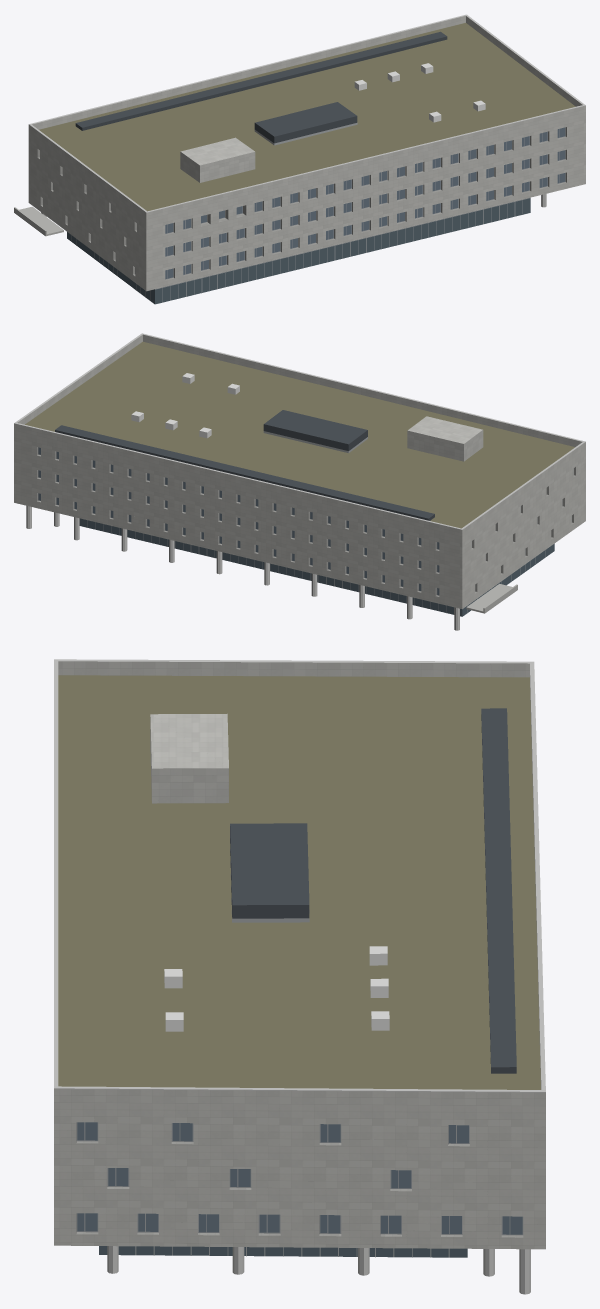
3 views of the same model, one above another, from view 1: azimuth 30°, elevation 25°; view 2: azimuth 150°, elevation 25°; view 3: azimuth 270°, elevation 25° (orthographic). The views are drawn at different scales.
Visible parts, largest first — view 1: veritasB__wall, veritasB__green, veritasB__glassG, veritasB__glassDark, veritasB__glass, veritasB__frame, veritasB__reveal, veritasB__cap, veritasB__concrete, veritasB__unit; view 2: veritasB__wall, veritasB__green, veritasB__glassDark, veritasB__glassG, veritasB__cap, veritasB__reveal, veritasB__column, veritasB__glass, veritasB__frame, veritasB__concrete, veritasB__unit; view 3: veritasB__green, veritasB__wall, veritasB__glassDark, veritasB__cap, veritasB__glass, veritasB__glassG, veritasB__frame, veritasB__unit, veritasB__column, veritasB__reveal.
Part boxes in pixels (x1=…): veritasB__wall: x1=28, y1=16, x2=585, y2=291; veritasB__green: x1=39, y1=23, x2=575, y2=211; veritasB__glassG: x1=67, y1=198, x2=530, y2=304; veritasB__glassDark: x1=75, y1=31, x2=447, y2=143; veritasB__glass: x1=165, y1=127, x2=565, y2=279; veritasB__frame: x1=53, y1=122, x2=565, y2=302; veritasB__reveal: x1=37, y1=127, x2=566, y2=280; veritasB__cap: x1=29, y1=14, x2=585, y2=212; veritasB__concrete: x1=14, y1=206, x2=63, y2=236; veritasB__unit: x1=354, y1=63, x2=485, y2=122; veritasB__wall: x1=14, y1=334, x2=585, y2=609; veritasB__green: x1=25, y1=341, x2=574, y2=528; veritasB__glassDark: x1=55, y1=410, x2=434, y2=520; veritasB__glassG: x1=79, y1=518, x2=554, y2=616; veritasB__cap: x1=14, y1=333, x2=585, y2=529; veritasB__reveal: x1=37, y1=447, x2=575, y2=596; veritasB__column: x1=26, y1=505, x2=459, y2=630; veritasB__glass: x1=38, y1=447, x2=439, y2=595; veritasB__frame: x1=38, y1=431, x2=573, y2=614; veritasB__concrete: x1=466, y1=583, x2=517, y2=613; veritasB__unit: x1=131, y1=373, x2=239, y2=438; veritasB__green: x1=58, y1=675, x2=540, y2=1089; veritasB__wall: x1=54, y1=661, x2=545, y2=1249; veritasB__glassDark: x1=230, y1=708, x2=516, y2=1073; veritasB__cap: x1=54, y1=659, x2=545, y2=1092; veritasB__glass: x1=77, y1=1122, x2=522, y2=1234; veritasB__glassG: x1=99, y1=1246, x2=467, y2=1257; veritasB__frame: x1=76, y1=849, x2=523, y2=1257; veritasB__unit: x1=164, y1=946, x2=389, y2=1031; veritasB__column: x1=107, y1=1246, x2=530, y2=1294; veritasB__reveal: x1=76, y1=1122, x2=523, y2=1237.
Bounding box in the file's own units: 82.61 × 19.8 × 38.27.
Materials: 13 (2 with a texture image).
